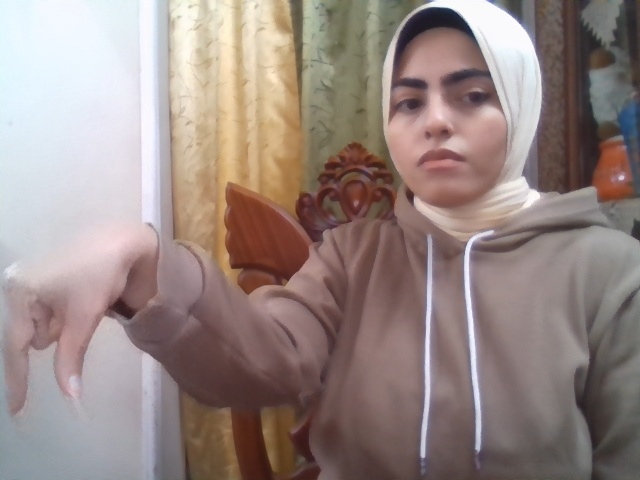Q: (4, 222, 130, 419)
